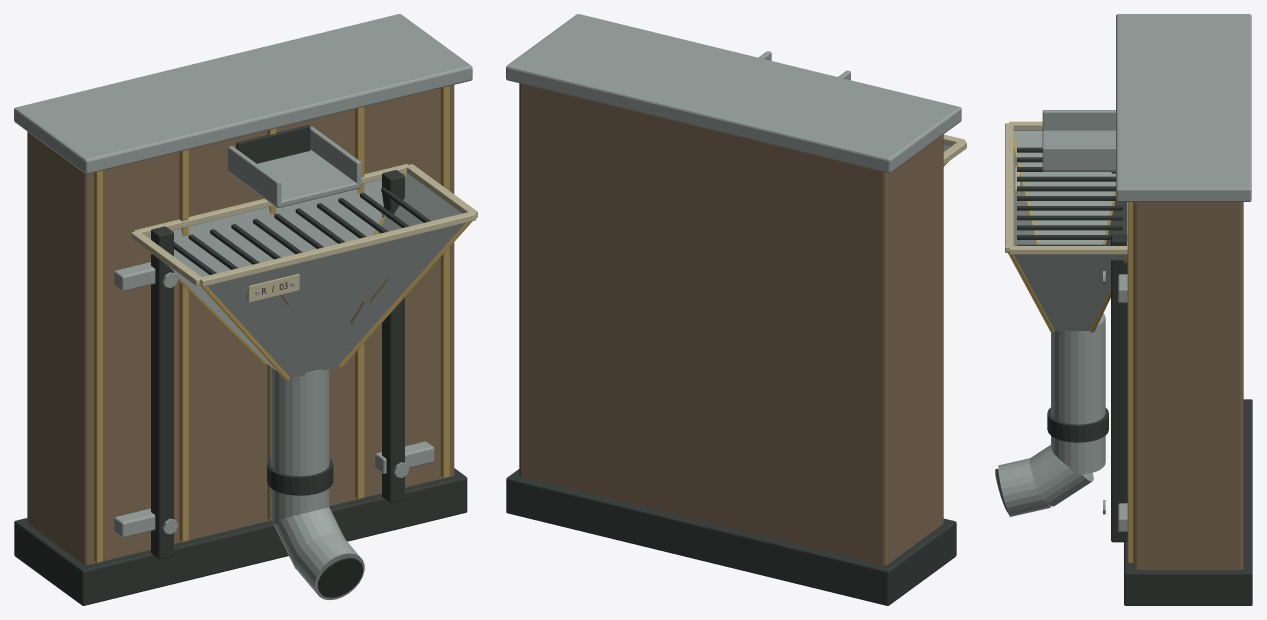
File: rainhead.glb
The picture shows the model from 3 angles, left to right: view 1: azimuth 30°, elevation 25°; view 2: azimuth 150°, elevation 25°; view 3: azimuth 270°, elevation 25°; orthographic projection. The views are drawn at different scales.
Visible parts, largest first — view 1: Annex_rainhead; view 2: Annex_rainhead; view 3: Annex_rainhead.
Part boxes in pixels (left/top/right/bottom): Annex_rainhead: left=14, top=14, right=477, bottom=605; Annex_rainhead: left=506, top=14, right=966, bottom=605; Annex_rainhead: left=995, top=14, right=1252, bottom=605.
Size of the model in its own units: 1.81 by 2.01 by 1.12.
